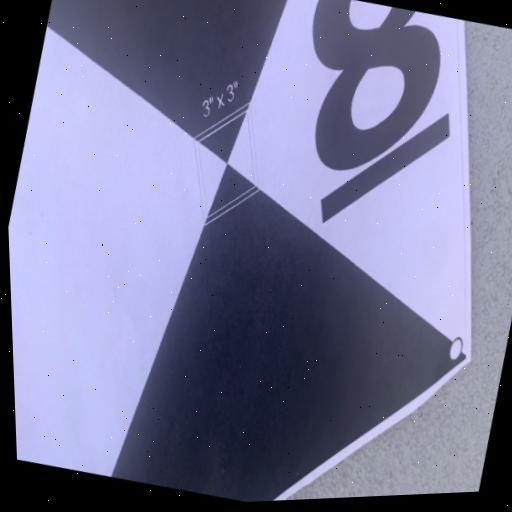target8: (8, 0, 471, 502)
